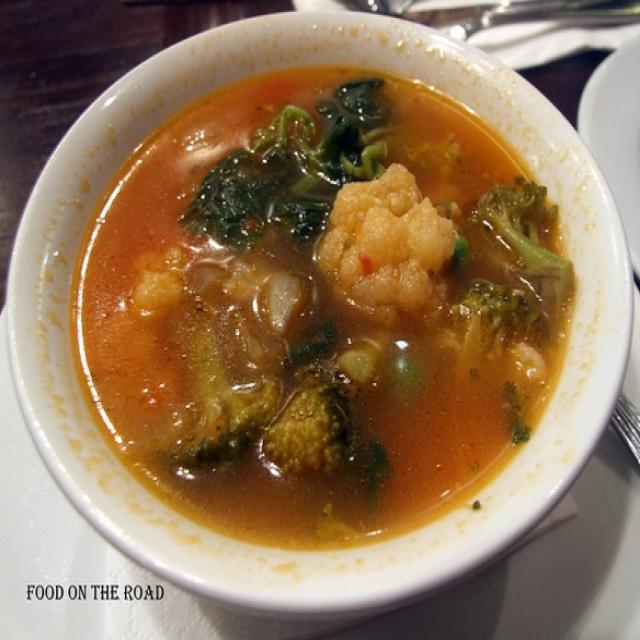汤锅炖物: (10, 15, 626, 610)
